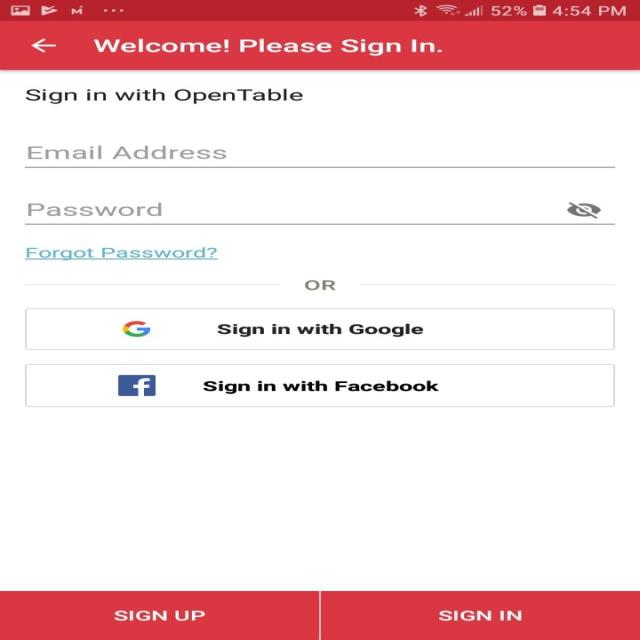EditText: (24, 201, 615, 225), (24, 145, 615, 168)
Icon: (565, 202, 601, 219), (30, 38, 56, 53)
Text: (93, 38, 442, 56), (25, 88, 303, 104), (28, 146, 226, 160), (25, 247, 218, 260), (28, 202, 162, 216), (304, 280, 336, 290)
TextButton: (24, 363, 614, 407), (24, 307, 614, 350), (0, 590, 319, 640), (320, 590, 639, 640)
